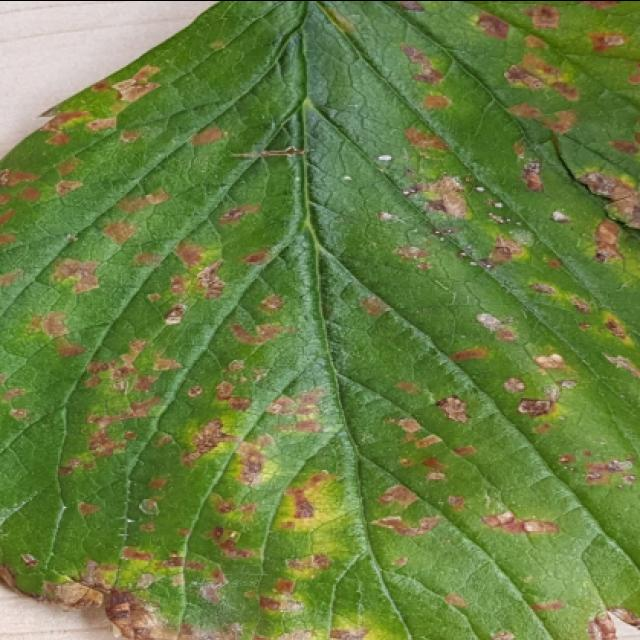Angular Leafspot: (0, 0, 638, 638)
